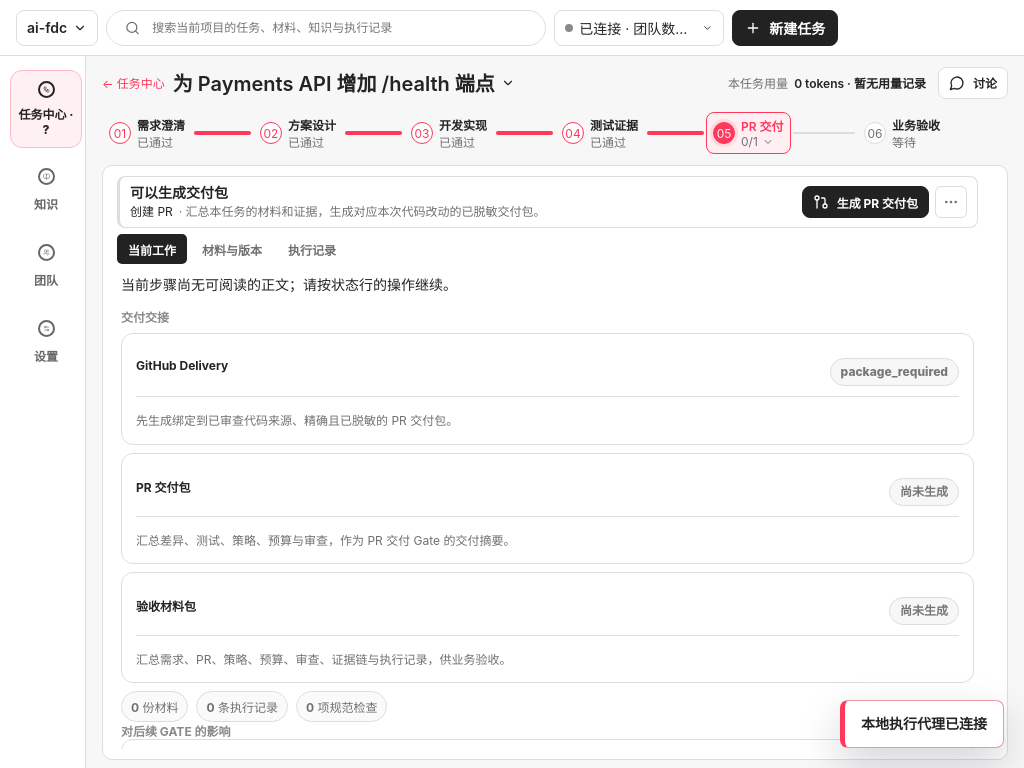
Test case: App › shows the paired Team Project id while its remote snapshot is still waiting to sync
Click the button with aria-label "团队连接：": (639, 28) [554, 10, 724, 46]
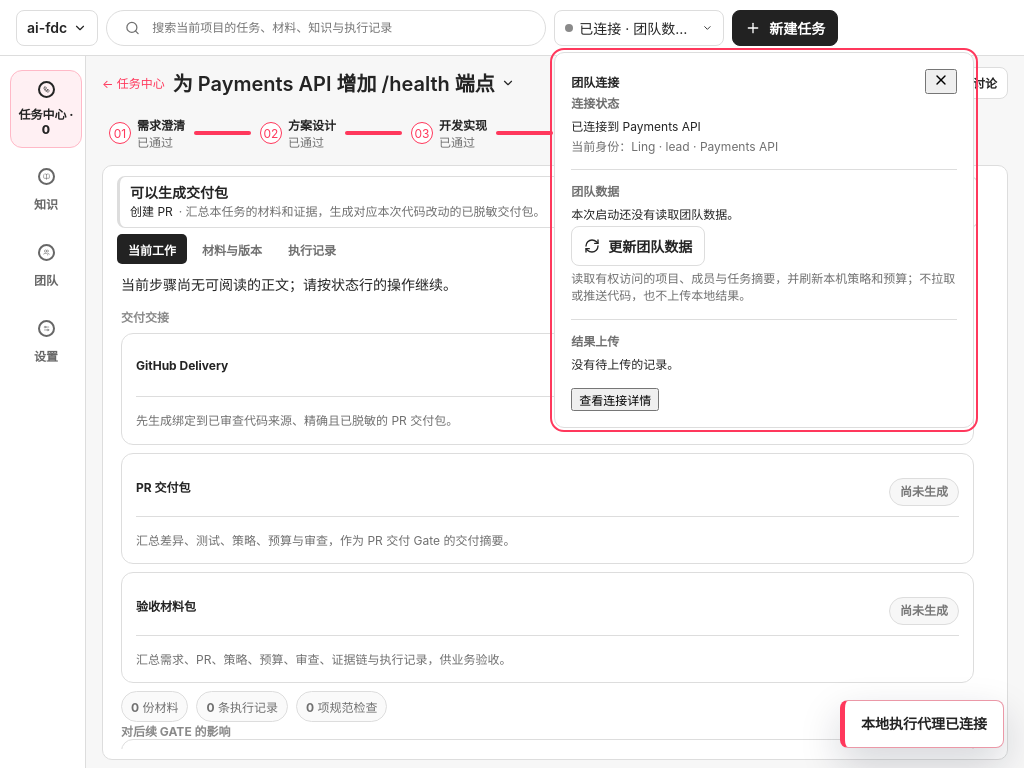
Check: the dialog "团队连接" shows "已连接到 Payments API", box [571, 118, 701, 134]
Check: the dialog "团队连接" shows "本次启动还没有读取团队数据。", box [571, 207, 739, 222]
